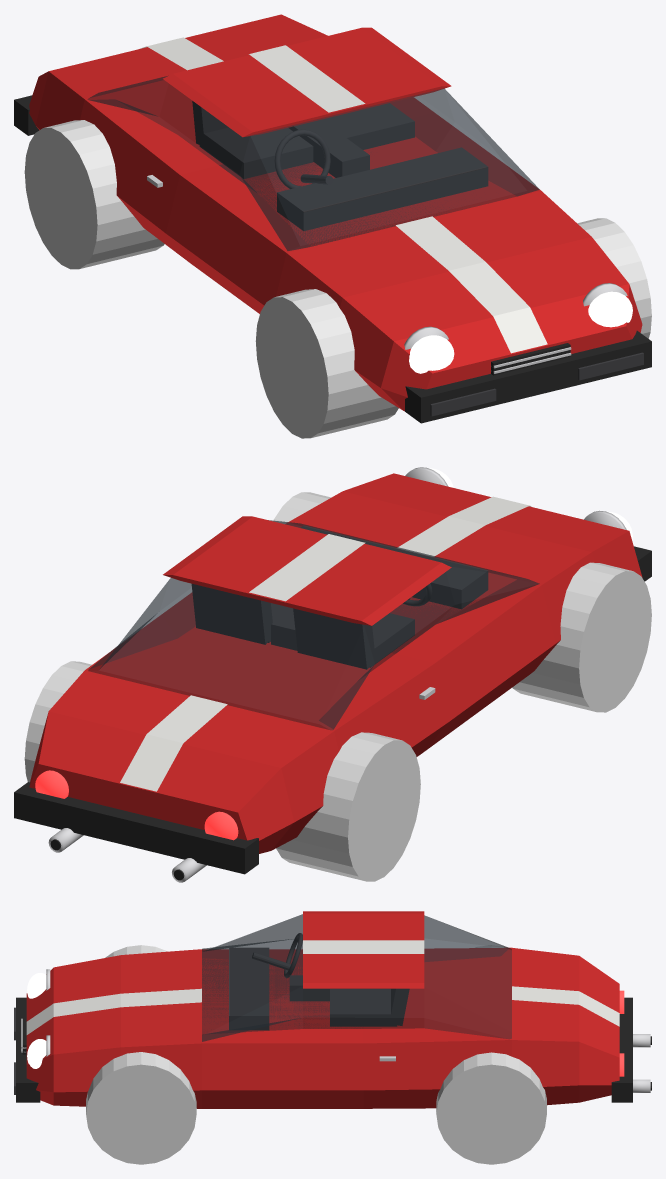
The model's file is my-car.glb.
The picture shows the model from 3 angles, top to bottom: view 1: azimuth 30°, elevation 25°; view 2: azimuth 150°, elevation 25°; view 3: azimuth 270°, elevation 25°; orthographic projection. The views are drawn at different scales.
Parts seen in each view (by area): view 1: Body_Main, Windows_Glass, Body_Roof, Arch_Cutter, Arch_Cutter.001, Dashboard, Front_Bumper, Stripe_Hood, Seat_Base, Stripe_Roof, Arch_Cutter.002, Seat_Base.001 (+10 smaller); view 2: Body_Main, Windows_Glass, Body_Roof, Arch_Cutter.001, Arch_Cutter, Rear_Bumper, Stripe_Trunk, Seat_Back, Seat_Back.001, Stripe_Roof, Stripe_Hood, Dashboard (+6 smaller); view 3: Body_Main, Windows_Glass, Arch_Cutter.002, Arch_Cutter.003, Body_Roof, Dashboard, Stripe_Hood, Seat_Base.001, Stripe_Roof, Stripe_Trunk, Rear_Bumper, Front_Bumper (+6 smaller).
Boxes of the visible parts, box(x1,y1,x2,y2) form: Body_Main: box(29, 14, 642, 411); Windows_Glass: box(87, 76, 539, 250); Body_Roof: box(163, 27, 451, 137); Arch_Cutter: box(255, 289, 398, 438); Arch_Cutter.001: box(24, 120, 164, 269); Dashboard: box(277, 147, 488, 230); Front_Bumper: box(405, 330, 651, 423); Stripe_Hood: box(396, 216, 547, 353); Seat_Base: box(199, 127, 313, 178); Stripe_Roof: box(249, 45, 365, 112); Arch_Cutter.002: box(577, 218, 651, 338); Seat_Base.001: box(322, 103, 414, 149); Body_Main: box(29, 473, 642, 853); Windows_Glass: box(88, 520, 539, 729); Body_Roof: box(163, 516, 451, 625); Arch_Cutter.001: box(276, 732, 420, 881); Arch_Cutter: box(512, 562, 651, 712); Rear_Bumper: box(14, 782, 258, 874); Stripe_Trunk: box(120, 695, 227, 791); Seat_Back: box(293, 608, 375, 669); Seat_Back.001: box(191, 584, 272, 644); Stripe_Roof: box(249, 534, 365, 601); Stripe_Hood: box(397, 496, 531, 556); Dashboard: box(301, 525, 488, 609); Body_Main: box(26, 947, 619, 1108); Windows_Glass: box(202, 914, 511, 1041); Arch_Cutter.002: box(86, 1052, 196, 1164); Arch_Cutter.003: box(436, 1052, 546, 1164); Body_Roof: box(303, 911, 424, 988); Dashboard: box(229, 947, 269, 1030); Stripe_Hood: box(26, 988, 201, 1034); Seat_Base.001: box(330, 989, 396, 1026); Stripe_Roof: box(303, 940, 424, 953); Stripe_Trunk: box(512, 986, 619, 1026); Rear_Bumper: box(611, 997, 632, 1102); Front_Bumper: box(16, 997, 40, 1102).
Size of what is drawn, in the model's own units: 2.1 by 1.29 by 4.74.
